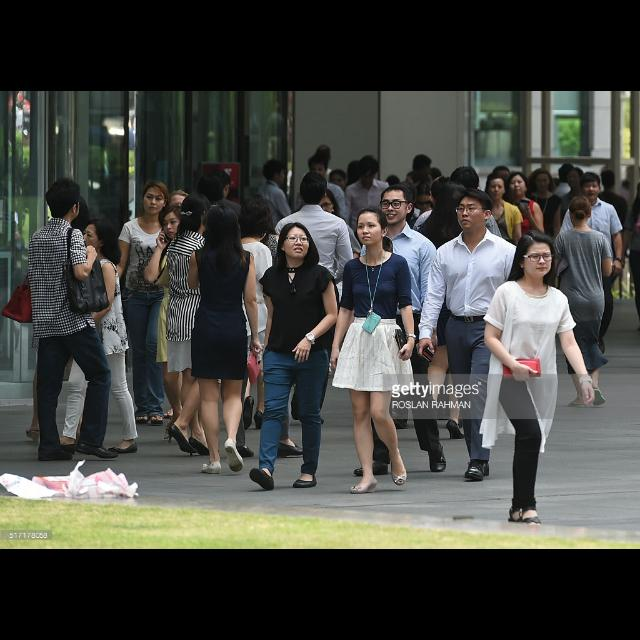head: (628, 177, 640, 333), (517, 234, 555, 278), (44, 178, 82, 220), (457, 190, 495, 230), (238, 198, 272, 242), (436, 184, 469, 226), (357, 208, 389, 246), (278, 223, 310, 261), (182, 194, 214, 232), (206, 206, 238, 242), (161, 203, 191, 241), (80, 220, 112, 254), (450, 166, 480, 202), (298, 172, 328, 208), (142, 181, 170, 217), (568, 195, 594, 227), (390, 195, 416, 225), (64, 196, 88, 228), (360, 155, 380, 189), (580, 172, 602, 202), (263, 160, 287, 186), (487, 173, 508, 201), (316, 189, 336, 217), (532, 168, 552, 195), (507, 174, 529, 198), (308, 156, 328, 180), (566, 167, 586, 189), (560, 164, 576, 182), (602, 170, 616, 190)
person: (482, 230, 594, 530), (418, 189, 530, 481), (28, 177, 122, 463), (246, 222, 338, 492), (332, 206, 418, 494), (41, 217, 141, 457), (187, 201, 263, 479), (273, 170, 355, 422), (228, 196, 306, 460), (416, 180, 492, 440), (356, 184, 436, 430), (23, 194, 101, 442), (142, 203, 218, 442), (110, 180, 183, 428), (164, 191, 232, 453), (436, 165, 506, 403), (549, 193, 615, 409), (296, 188, 360, 378), (289, 153, 351, 331), (564, 171, 624, 353), (489, 172, 547, 360), (474, 172, 524, 362), (518, 167, 570, 345), (343, 154, 392, 332), (560, 167, 604, 326), (252, 158, 294, 316), (590, 168, 630, 322), (550, 163, 586, 305)
